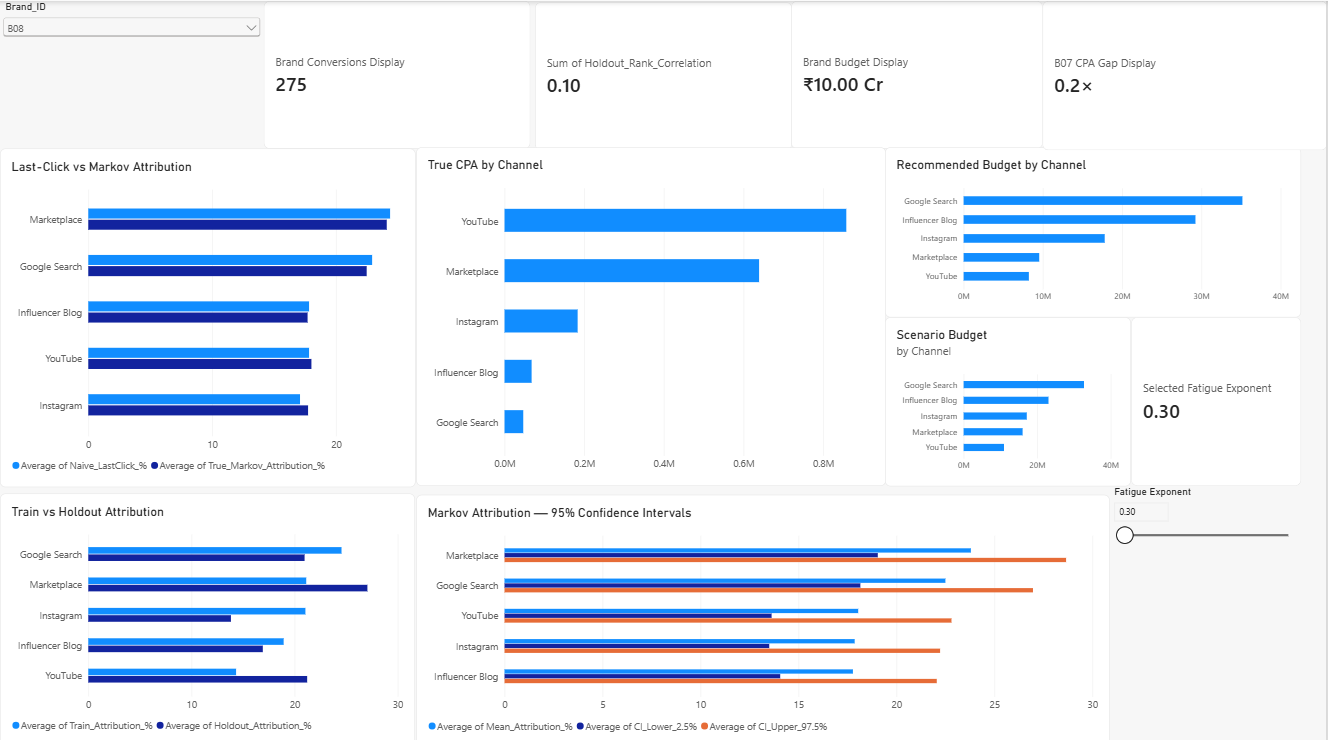

Layout of this report page (visuals, bound fields, positions):
{"tool":"powerbi","page":{"name":"Brand Deep Dive","canvas":[1920,1080],"ordinal":1},"visuals":[{"type":"slicer","fields":{"Values":["portfolio_summary_by_brand.Brand_ID"]},"box":[0,0,381.7,213.3],"z":0},{"type":"cardVisual","fields":{"Data":["portfolio_summary_by_brand.Brand Conversions Display"]},"box":[382,0,386,214],"z":1000},{"type":"cardVisual","fields":{"Data":["Sum(portfolio_summary_by_brand.Holdout_Rank_Correlation)"]},"box":[774,2,372,214],"z":2000},{"type":"cardVisual","fields":{"Data":["BudgetAllocation.Brand Budget Display"]},"box":[1146,0,364,214],"z":3000},{"type":"clusteredBarChart","title":"Last-Click vs Markov Attribution","fields":{"Category":["AttributionComparison.Channel"],"Y":["Avg(AttributionComparison.Naive_LastClick_%)","Avg(AttributionComparison.True_Markov_Attribution_%)"]},"box":[0,212.9,601.4,490],"z":4000},{"type":"clusteredBarChart","title":"True CPA by Channel","fields":{"Category":["BudgetAllocation.Channel"],"Y":["Sum(BudgetAllocation.True_CPA)"]},"box":[602,212,680,490],"z":5000},{"type":"clusteredBarChart","title":"Recommended Budget by Channel","fields":{"Category":["BudgetAllocation.Channel"],"Y":["Sum(BudgetAllocation.Recommended_Budget_INR)"]},"box":[1282,212,602,246],"z":6000},{"type":"clusteredBarChart","title":"Train vs Holdout Attribution","fields":{"Category":["HoldoutValidation.Channel"],"Y":["Avg(HoldoutValidation.Train_Attribution_%)","Avg(HoldoutValidation.Holdout_Attribution_%)"]},"box":[0,713,601,367],"z":7000},{"type":"clusteredBarChart","title":"Markov Attribution — 95% Confidence Intervals","fields":{"Category":["ConfidenceIntervals.Channel"],"Y":["Avg(ConfidenceIntervals.Mean_Attribution_%)","Avg(ConfidenceIntervals.CI_Lower_2.5%)","Avg(ConfidenceIntervals.CI_Upper_97.5%)"]},"box":[602,714,1004,366],"z":8000},{"type":"cardVisual","fields":{"Data":["BudgetAllocation.B07 CPA Gap Display"]},"box":[1510,0,412,216],"z":9000},{"type":"slicer","fields":{"Values":["Fatigue Exponent.Fatigue Exponent"]},"box":[1605.2,702.1,278,366],"z":10000},{"type":"cardVisual","fields":{"Data":["AttributionComparison.Selected Fatigue Exponent"]},"box":[1638,458,246,244],"z":11000},{"type":"barChart","fields":{"Category":["BudgetAllocation.Channel"],"Y":["AttributionComparison.Scenario Budget"]},"box":[1282,458,356,245],"z":12000}]}

Visuals, with their boxes in screenshot pixels (x1, y1, x2, y2), scaled from the page's 1920x1080 canvas onto the 1328x740 screenshot:
slicer - portfolio_summary_by_brand.Brand_ID: [x1=0, y1=0, x2=264, y2=146]
cardVisual - portfolio_summary_by_brand.Brand Conversions Display: [x1=264, y1=0, x2=531, y2=147]
cardVisual - Sum(portfolio_summary_by_brand.Holdout_Rank_Correlation): [x1=535, y1=1, x2=793, y2=148]
cardVisual - BudgetAllocation.Brand Budget Display: [x1=793, y1=0, x2=1044, y2=147]
"Last-Click vs Markov Attribution" clusteredBarChart: [x1=0, y1=146, x2=416, y2=482]
"True CPA by Channel" clusteredBarChart: [x1=416, y1=145, x2=887, y2=481]
"Recommended Budget by Channel" clusteredBarChart: [x1=887, y1=145, x2=1303, y2=314]
"Train vs Holdout Attribution" clusteredBarChart: [x1=0, y1=489, x2=416, y2=739]
"Markov Attribution — 95% Confidence Intervals" clusteredBarChart: [x1=416, y1=489, x2=1111, y2=739]
cardVisual - BudgetAllocation.B07 CPA Gap Display: [x1=1044, y1=0, x2=1327, y2=148]
slicer - Fatigue Exponent.Fatigue Exponent: [x1=1110, y1=481, x2=1303, y2=732]
cardVisual - AttributionComparison.Selected Fatigue Exponent: [x1=1133, y1=314, x2=1303, y2=481]
barChart - BudgetAllocation.Channel x AttributionComparison.Scenario Budget: [x1=887, y1=314, x2=1133, y2=482]
